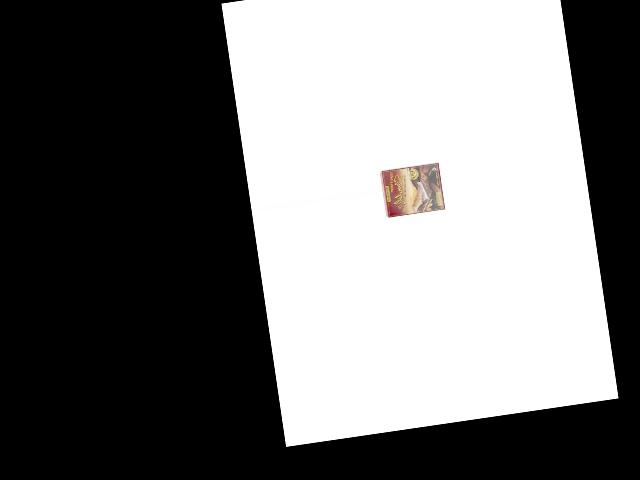chocolate: (379, 162, 445, 217)
